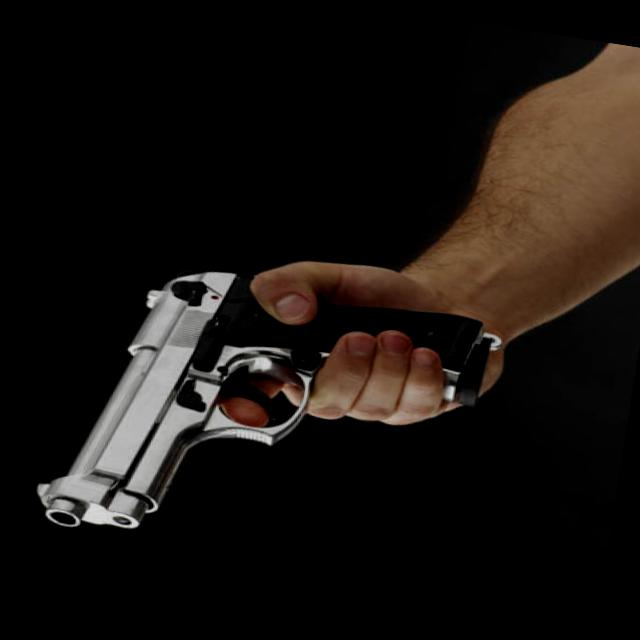handgun: (16, 253, 496, 596)
